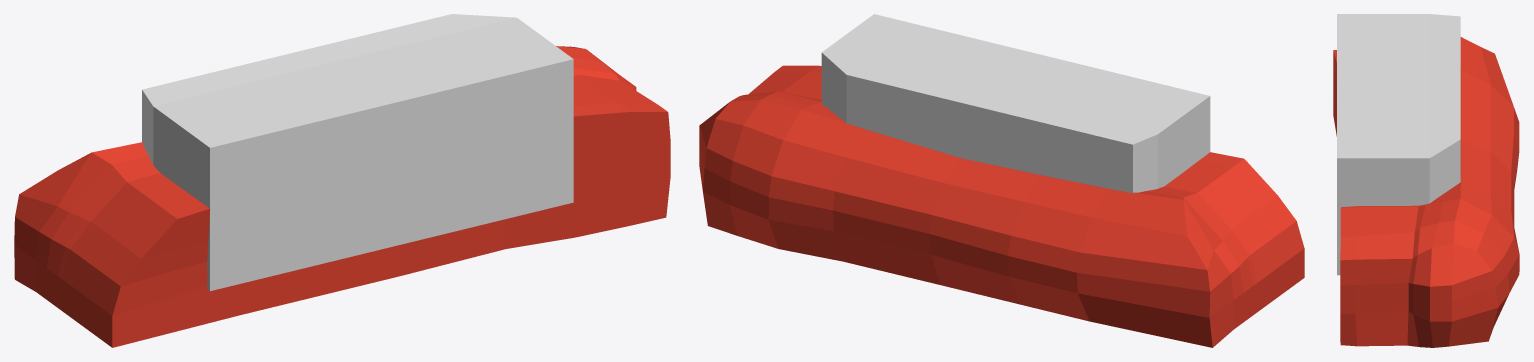
The model's file is Clowncar_Body.glb.
3 renders of one model, left to right at view 1: azimuth 30°, elevation 25°; view 2: azimuth 150°, elevation 25°; view 3: azimuth 270°, elevation 25°, orthographic. The views are drawn at different scales.
Parts seen in each view (by area): view 1: carbod_inthole, Carbod; view 2: Carbod, carbod_inthole; view 3: Carbod, carbod_inthole.
Boxes of the visible parts, x1,y1,x2,y2 form: carbod_inthole: [142, 14, 573, 291]; Carbod: [14, 46, 670, 347]; Carbod: [699, 65, 1304, 347]; carbod_inthole: [821, 14, 1210, 193]; Carbod: [1333, 37, 1519, 347]; carbod_inthole: [1337, 14, 1460, 275].
Size of the model in its own units: 4.47 by 1.35 by 1.52.
